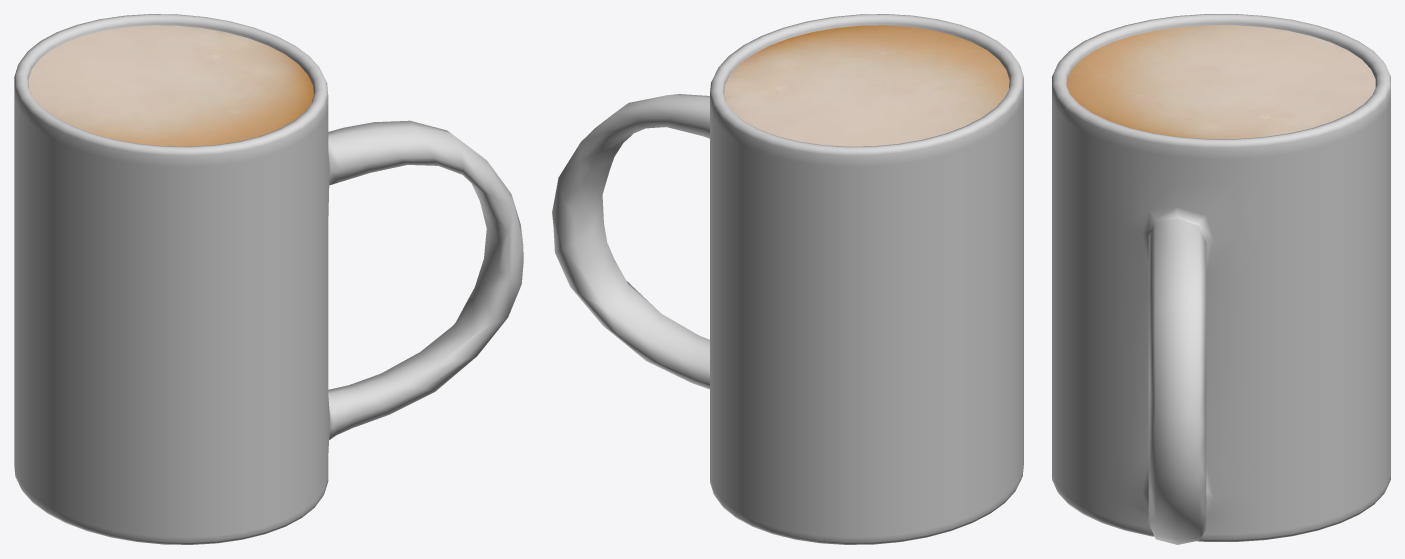
The model's file is 鮮奶茶.fbx.
3 views of the same model, side by side, from view 1: azimuth 30°, elevation 25°; view 2: azimuth 150°, elevation 25°; view 3: azimuth 270°, elevation 25° (orthographic).
Parts seen in each view (by area): view 1: Cylinder001, Cylinder002; view 2: Cylinder001, Cylinder002; view 3: Cylinder001, Cylinder002.
Part boxes in pixels (box(x1,y1,x2,y2)): Cylinder001: box(14, 14, 523, 544); Cylinder002: box(28, 25, 313, 146); Cylinder001: box(552, 14, 1023, 544); Cylinder002: box(724, 25, 1009, 146); Cylinder001: box(1052, 14, 1390, 544); Cylinder002: box(1067, 25, 1375, 138).
Bounding box in the file's own units: 9.36 × 7.78 × 5.89.
2 materials, 1 textured.
